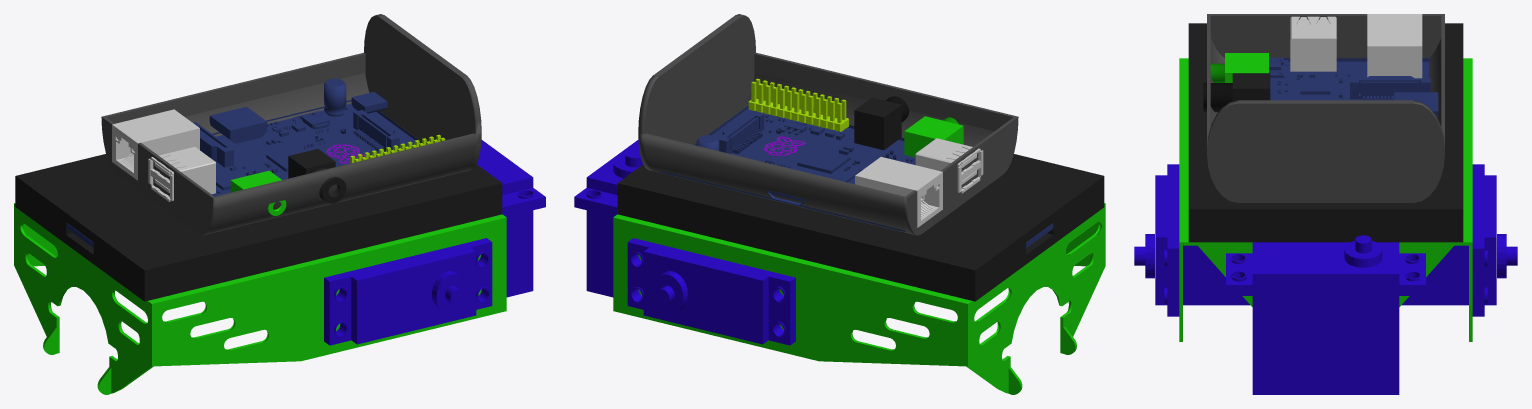
Rendered from chasis.dae.
3 renders of one model, left to right at view 1: azimuth 30°, elevation 25°; view 2: azimuth 150°, elevation 25°; view 3: azimuth 270°, elevation 25°, orthographic. The views are drawn at different scales.
Parts seen in each view (by area): view 1: Mesh135_bateria1_chasis1_Model, Mesh120_case1_pi1_chasis1_Model, Mesh137_base1_chasis1_Model, Mesh122_servoC1_servosM1_chasis1_Model, Mesh31_board1_Group1_pi1_chasis1_Model, Mesh139_servoC3_Model, Mesh15_Group3_Group1_pi1_chasis1_Model, Mesh19_Group4_IO_04b1_Group1_pi1_chasis1_Model, Mesh123_servoC1_servosM1_chasis1_Model, Mesh20_Component_4_1_Group1_pi1_chasis1_Model, Mesh30_charge1_Group1_pi1_chasis1_Model, Mesh83_Group1_pi1_chasis1_Model (+5 smaller); view 2: Mesh135_bateria1_chasis1_Model, Mesh120_case1_pi1_chasis1_Model, Mesh137_base1_chasis1_Model, Mesh129_servoC2_servosM1_chasis1_Model, Mesh31_board1_Group1_pi1_chasis1_Model, Mesh139_servoC3_Model, Mesh15_Group3_Group1_pi1_chasis1_Model, Mesh30_charge1_Group1_pi1_chasis1_Model, Mesh19_Group4_IO_04b1_Group1_pi1_chasis1_Model, Mesh130_servoC2_servosM1_chasis1_Model, Mesh29_jack1_Group1_pi1_chasis1_Model, Mesh83_Group1_pi1_chasis1_Model (+3 smaller); view 3: Mesh120_case1_pi1_chasis1_Model, Mesh139_servoC3_Model, Mesh135_bateria1_chasis1_Model, Mesh137_base1_chasis1_Model, Mesh129_servoC2_servosM1_chasis1_Model, Mesh122_servoC1_servosM1_chasis1_Model, Mesh31_board1_Group1_pi1_chasis1_Model, Mesh15_Group3_Group1_pi1_chasis1_Model, Mesh19_Group4_IO_04b1_Group1_pi1_chasis1_Model, Mesh30_charge1_Group1_pi1_chasis1_Model, Mesh29_jack1_Group1_pi1_chasis1_Model, Mesh138_servoC3_Model (+5 smaller).
Part boxes in pixels (x1,y1,x2,y2): Mesh135_bateria1_chasis1_Model: (15, 111, 502, 301); Mesh120_case1_pi1_chasis1_Model: (101, 14, 481, 235); Mesh137_base1_chasis1_Model: (14, 203, 506, 394); Mesh122_servoC1_servosM1_chasis1_Model: (346, 238, 492, 344); Mesh31_board1_Group1_pi1_chasis1_Model: (193, 100, 421, 196); Mesh139_servoC3_Model: (477, 139, 533, 297); Mesh15_Group3_Group1_pi1_chasis1_Model: (112, 109, 199, 180); Mesh19_Group4_IO_04b1_Group1_pi1_chasis1_Model: (148, 147, 215, 201); Mesh123_servoC1_servosM1_chasis1_Model: (324, 272, 351, 345); Mesh20_Component_4_1_Group1_pi1_chasis1_Model: (209, 106, 267, 143); Mesh30_charge1_Group1_pi1_chasis1_Model: (288, 149, 346, 203); Mesh83_Group1_pi1_chasis1_Model: (353, 110, 399, 151); Mesh135_bateria1_chasis1_Model: (617, 122, 1104, 301); Mesh120_case1_pi1_chasis1_Model: (638, 14, 1018, 235); Mesh137_base1_chasis1_Model: (613, 203, 1105, 394); Mesh129_servoC2_servosM1_chasis1_Model: (627, 238, 773, 344); Mesh31_board1_Group1_pi1_chasis1_Model: (660, 105, 915, 231); Mesh139_servoC3_Model: (574, 139, 639, 297); Mesh15_Group3_Group1_pi1_chasis1_Model: (855, 157, 942, 227); Mesh30_charge1_Group1_pi1_chasis1_Model: (854, 96, 909, 150); Mesh19_Group4_IO_04b1_Group1_pi1_chasis1_Model: (915, 138, 983, 193); Mesh130_servoC2_servosM1_chasis1_Model: (768, 272, 795, 345); Mesh29_jack1_Group1_pi1_chasis1_Model: (904, 116, 963, 157); Mesh83_Group1_pi1_chasis1_Model: (718, 112, 764, 153); Mesh120_case1_pi1_chasis1_Model: (1207, 14, 1444, 202); Mesh139_servoC3_Model: (1252, 242, 1425, 394); Mesh135_bateria1_chasis1_Model: (1188, 23, 1463, 242); Mesh137_base1_chasis1_Model: (1179, 58, 1472, 341); Mesh129_servoC2_servosM1_chasis1_Model: (1402, 175, 1496, 316); Mesh122_servoC1_servosM1_chasis1_Model: (1155, 175, 1249, 316); Mesh31_board1_Group1_pi1_chasis1_Model: (1270, 58, 1430, 100); Mesh15_Group3_Group1_pi1_chasis1_Model: (1367, 14, 1422, 78); Mesh19_Group4_IO_04b1_Group1_pi1_chasis1_Model: (1290, 16, 1336, 71); Mesh30_charge1_Group1_pi1_chasis1_Model: (1203, 73, 1270, 112); Mesh29_jack1_Group1_pi1_chasis1_Model: (1210, 53, 1268, 82); Mesh138_servoC3_Model: (1344, 235, 1382, 267).
Bounding box in the file's own units: 0.1434 × 0.1046 × 0.0784.
